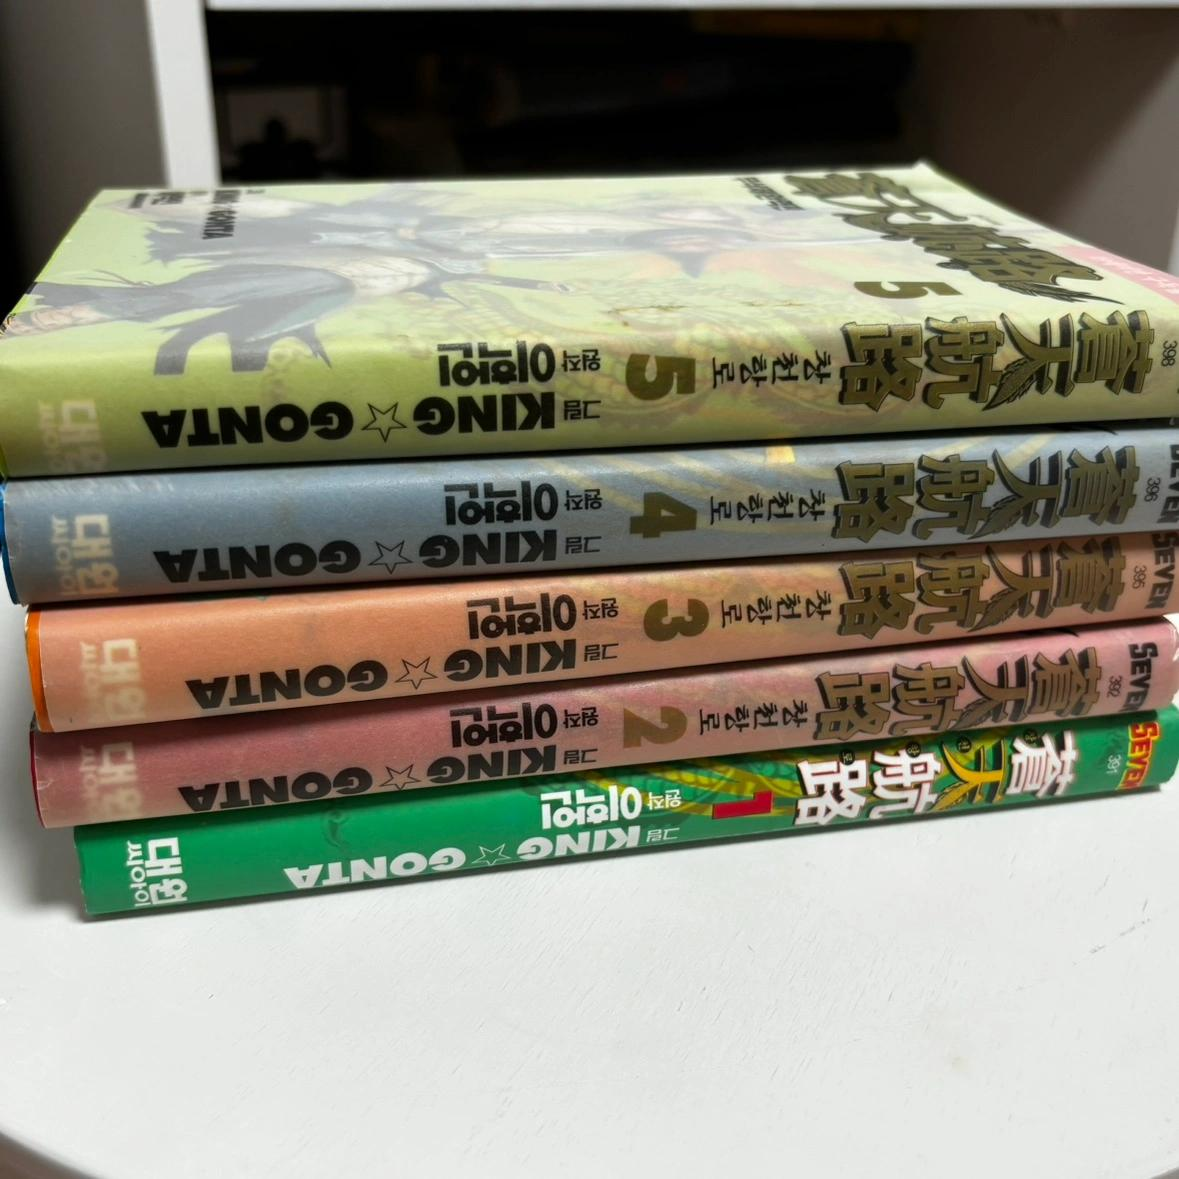book: (1, 155, 1178, 478), (28, 613, 1178, 829), (70, 701, 1178, 918), (23, 527, 1178, 732), (1, 422, 1177, 605)
